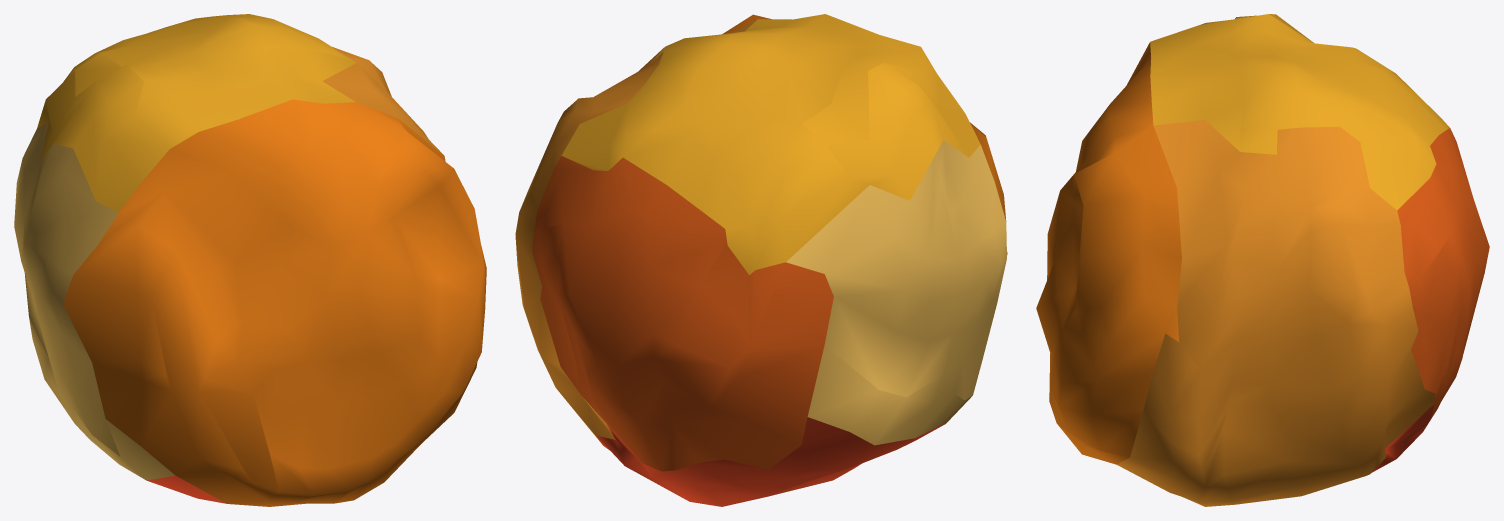
The model's file is karaage4.fbx.
3 renders of one model, left to right at view 1: azimuth 30°, elevation 25°; view 2: azimuth 150°, elevation 25°; view 3: azimuth 270°, elevation 25°, orthographic. The views are drawn at different scales.
Parts seen in each view (by area): view 1: Plane.001; view 2: Plane.001; view 3: Plane.001.
Boxes of the visible parts, x1,y1,x2,y2 form: Plane.001: (14,14,486,506); Plane.001: (515,14,1007,506); Plane.001: (1036,14,1489,506).
Bounding box in the file's own units: 154 × 157 × 155.
